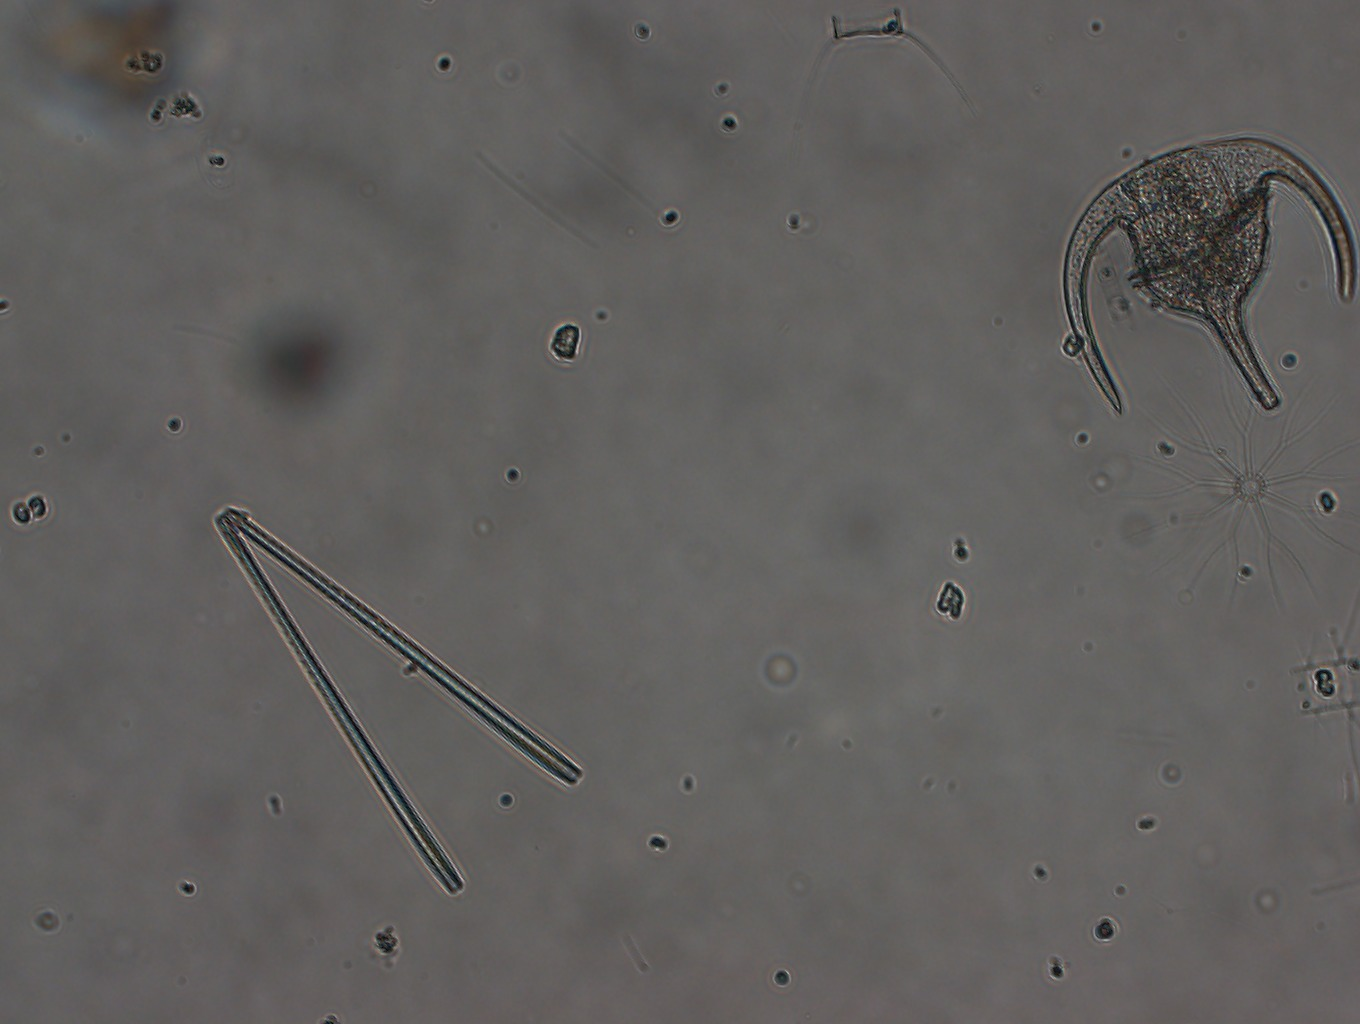bacteriastrum: (1125, 357, 1360, 599), (776, 3, 985, 136), (1286, 586, 1360, 782)
ceratium tripos: (1044, 128, 1358, 426)
thalassionema frauenfeldii: (201, 506, 585, 901)
